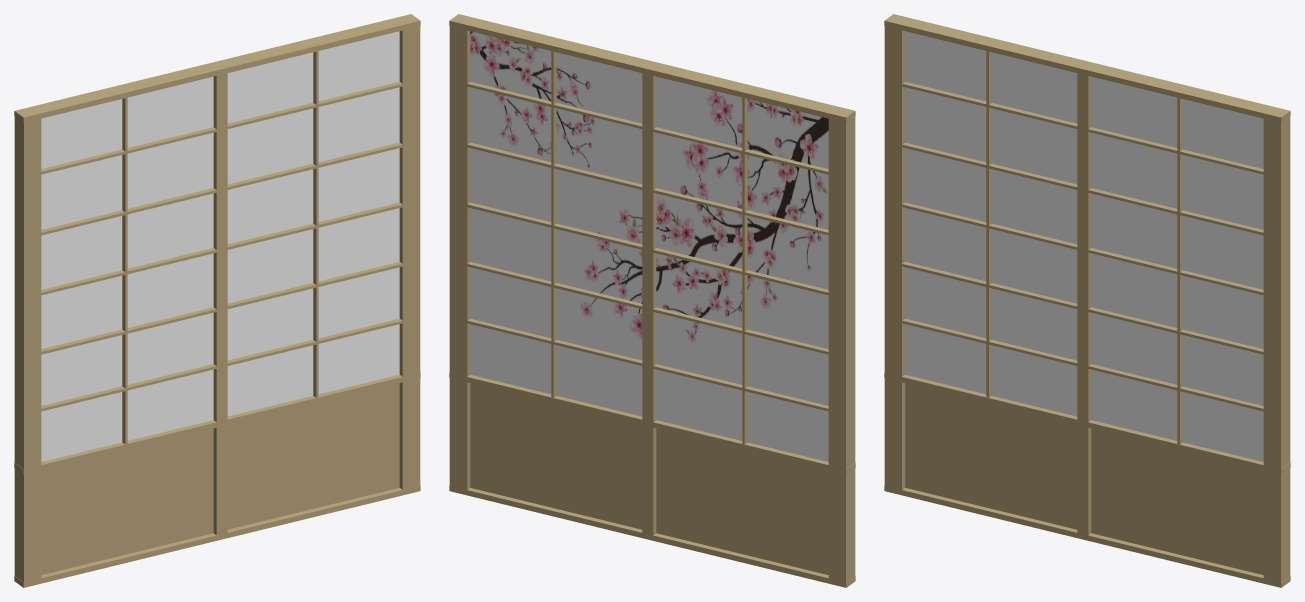
Rendered from Sliding Door Better v2.fbx.
3 renders of one model, left to right at view 1: azimuth 30°, elevation 25°; view 2: azimuth 150°, elevation 25°; view 3: azimuth 330°, elevation 25°, orthographic.
Parts seen in each view (by area): view 1: pCube21, pCube62, pCube60, pCube61, pCube59, pCube24, pCube22, pCube23, pCube58, pCube49, pCube52, pCube47 (+8 smaller); view 2: pCube21, pCube62, pCube60, pCube61, pCube59, pCube24, pCube22, pCube23, pCube49, pCube58, pCube52, pCube47 (+8 smaller); view 3: pCube21, pCube62, pCube61, pCube60, pCube59, pCube24, pCube22, pCube23, pCube49, pCube58, pCube50, pCube53 (+8 smaller).
Part boxes in pixels (bbox=[...]): pCube21: bbox=[41, 31, 399, 461]; pCube62: bbox=[41, 383, 399, 574]; pCube60: bbox=[14, 115, 41, 582]; pCube61: bbox=[399, 22, 420, 490]; pCube59: bbox=[213, 69, 227, 535]; pCube24: bbox=[14, 14, 420, 122]; pCube22: bbox=[14, 486, 420, 587]; pCube23: bbox=[14, 373, 420, 474]; pCube58: bbox=[122, 97, 127, 444]; pCube49: bbox=[313, 51, 318, 397]; pCube52: bbox=[227, 202, 402, 249]; pCube47: bbox=[41, 127, 216, 174]; pCube21: bbox=[470, 31, 828, 461]; pCube62: bbox=[470, 383, 828, 574]; pCube60: bbox=[828, 115, 855, 582]; pCube61: bbox=[449, 22, 470, 490]; pCube59: bbox=[642, 69, 656, 535]; pCube24: bbox=[449, 14, 855, 122]; pCube22: bbox=[449, 486, 855, 587]; pCube23: bbox=[449, 373, 855, 474]; pCube49: bbox=[551, 51, 556, 397]; pCube58: bbox=[742, 97, 747, 444]; pCube52: bbox=[467, 202, 642, 249]; pCube47: bbox=[653, 127, 828, 174]; pCube21: bbox=[905, 31, 1263, 461]; pCube62: bbox=[905, 383, 1263, 574]; pCube61: bbox=[1263, 115, 1290, 582]; pCube60: bbox=[884, 22, 905, 489]; pCube59: bbox=[1077, 69, 1091, 535]; pCube24: bbox=[884, 14, 1290, 122]; pCube22: bbox=[884, 486, 1290, 587]; pCube23: bbox=[884, 372, 1290, 474]; pCube49: bbox=[1177, 97, 1182, 444]; pCube58: bbox=[986, 51, 991, 397]; pCube50: bbox=[1088, 127, 1263, 174]; pCube53: bbox=[1088, 307, 1263, 354].
Bounding box in the file's own units: 3.73 × 4.23 × 0.1505.
2 materials, 1 textured.
